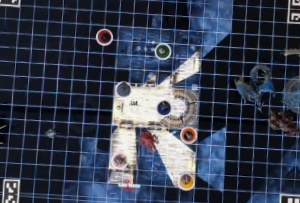blue: (153, 97, 173, 115)
green: (153, 40, 174, 58)
orange: (176, 122, 198, 144)
pink: (109, 149, 129, 172)
red: (93, 26, 114, 46)
violet: (113, 78, 132, 98)
yellow: (175, 171, 192, 191)
